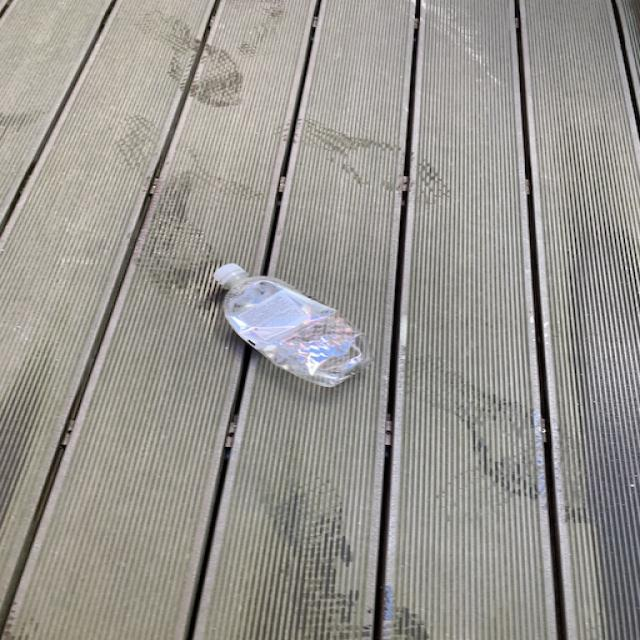Waste: (214, 263, 370, 387)
